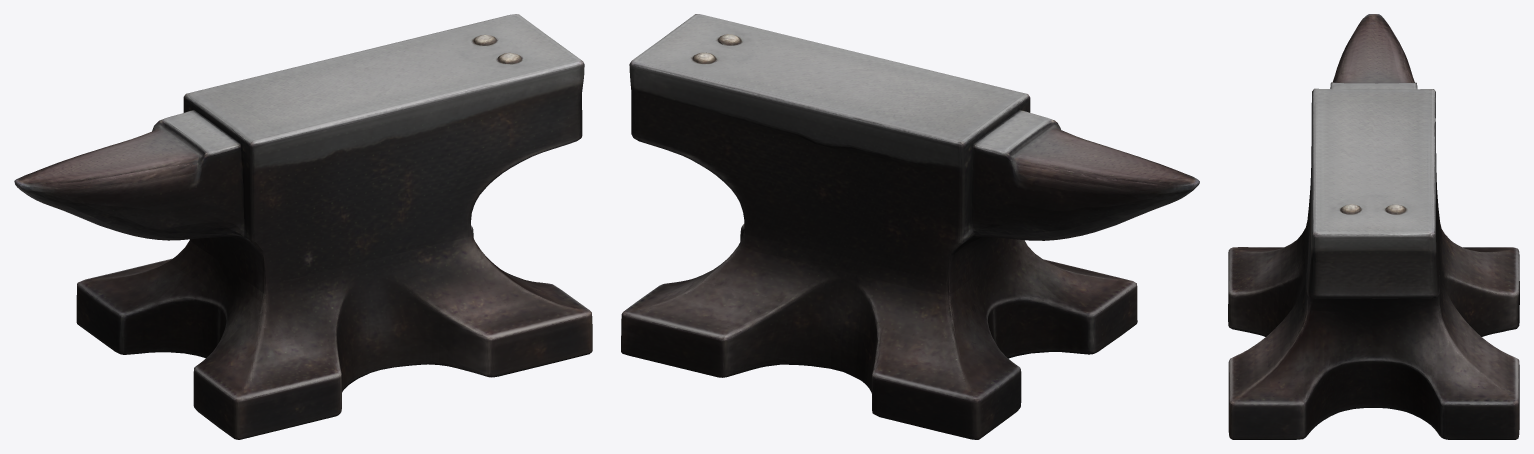
Rendered from anvil.glb.
3 views of the same model, side by side, from view 1: azimuth 30°, elevation 25°; view 2: azimuth 150°, elevation 25°; view 3: azimuth 270°, elevation 25° (orthographic). The views are drawn at different scales.
Parts seen in each view (by area): view 1: world; view 2: world; view 3: world.
Part boxes in pixels (<box>): world: <box>14,14,592,439</box>; world: <box>621,14,1199,439</box>; world: <box>1228,14,1519,439</box>.
Bounding box in the file's own units: 1 × 0.453 × 0.5265.
Materials: 1 (1 with a texture image).
